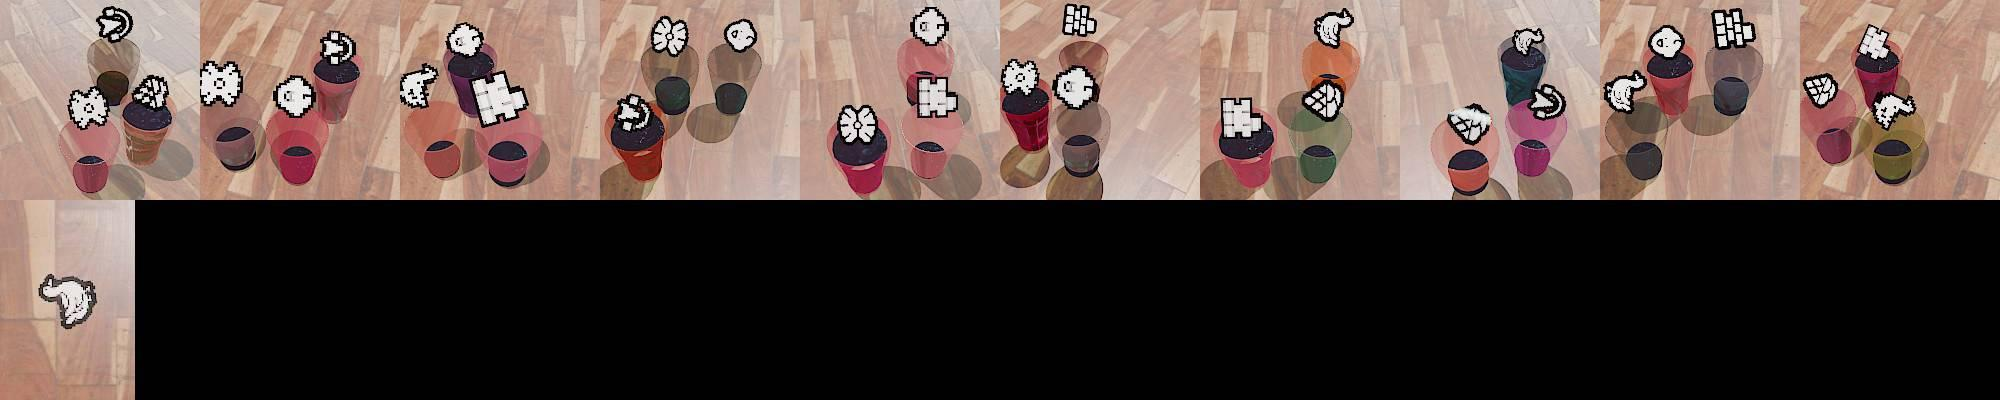icon: (469, 69, 529, 127), (38, 274, 97, 330), (198, 59, 244, 107), (1052, 65, 1098, 111), (1709, 8, 1758, 51), (1602, 69, 1648, 113), (913, 73, 958, 117), (1301, 76, 1346, 121), (1221, 94, 1264, 139), (66, 87, 111, 130), (273, 74, 316, 116), (837, 103, 879, 146), (1446, 102, 1491, 141), (1870, 92, 1917, 129), (1312, 8, 1353, 50), (1000, 57, 1041, 98), (651, 14, 689, 57), (909, 5, 949, 46), (445, 22, 485, 60), (615, 93, 653, 132), (131, 73, 172, 110), (318, 28, 356, 66), (1802, 71, 1839, 108), (1648, 24, 1686, 60), (1857, 24, 1893, 61), (1528, 83, 1565, 118), (1061, 3, 1097, 38), (723, 18, 758, 54), (97, 6, 131, 41), (1510, 25, 1543, 57), (401, 74, 431, 108)
